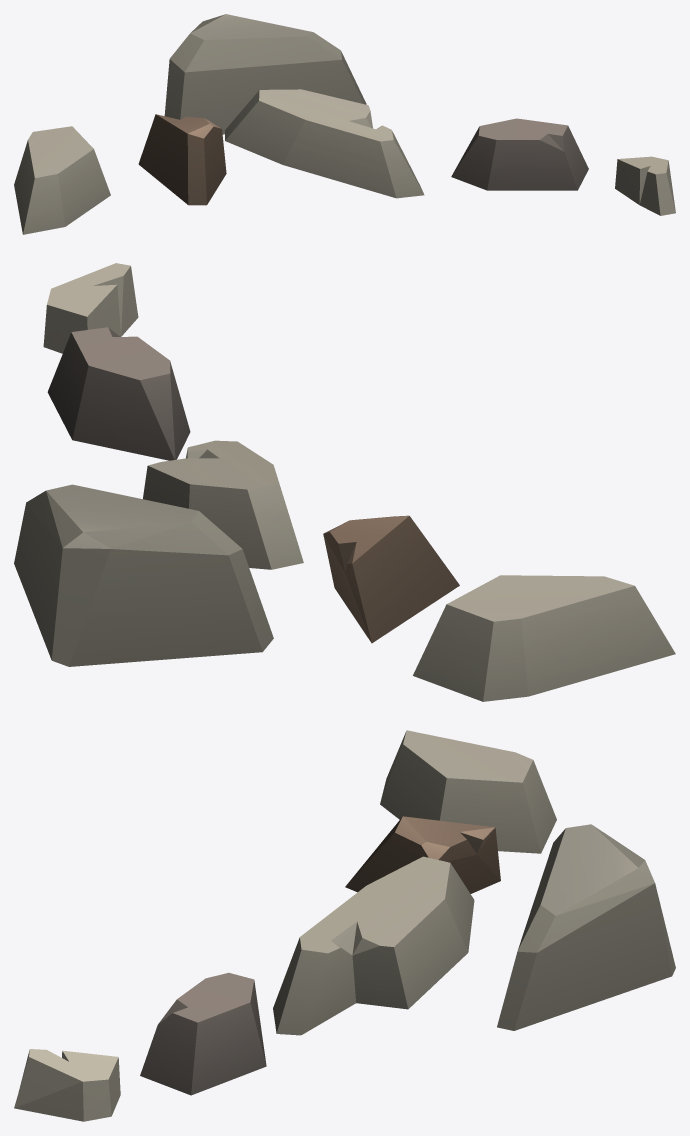
File: Rock_Cluster_8A.fbx
3 renders of one model, top to bottom at view 1: azimuth 30°, elevation 25°; view 2: azimuth 150°, elevation 25°; view 3: azimuth 270°, elevation 25°, orthographic. The views are drawn at different scales.
Visible parts, largest first — view 1: Rock_Cluster_8A; view 2: Rock_Cluster_8A; view 3: Rock_Cluster_8A.
Boxes of the visible parts, bbox=[...] form: Rock_Cluster_8A: bbox=[14, 14, 675, 234]; Rock_Cluster_8A: bbox=[14, 263, 675, 701]; Rock_Cluster_8A: bbox=[14, 730, 675, 1121].
Bounding box in the file's own units: 1.81 × 0.3327 × 1.47.
